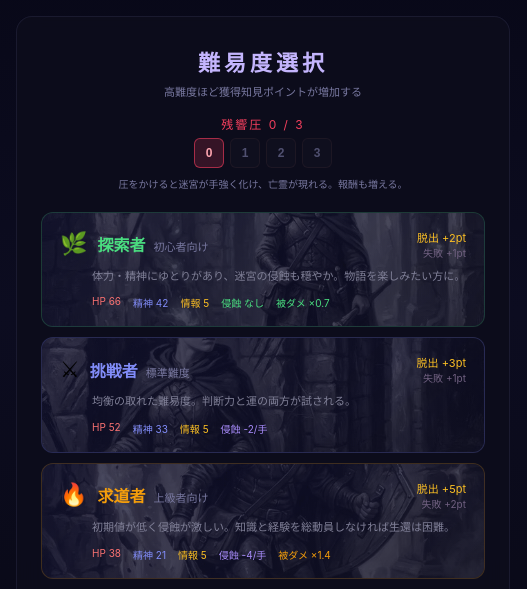
Test: DiffSelectScreen 残響圧 › 圧>0 のとき難易度カードの侵蝕・被ダメが実効値で表示される
// 残響圧3を選択（normal 実効: drainMod -2→-3、dmgMult 1→1.15）
Click the button "3": click(317, 153) [302,138,332,168]
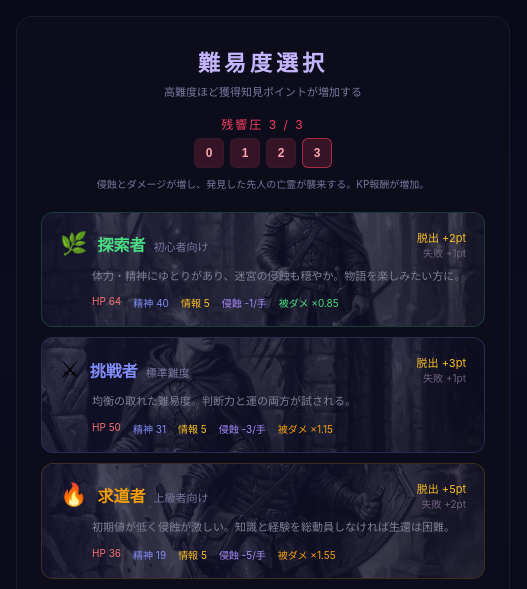
Expected: the text "被ダメ ×1.15" is shown, [278,421,333,436]
Expected: the text "侵蝕 -3/手" is shown, [219,421,266,436]
